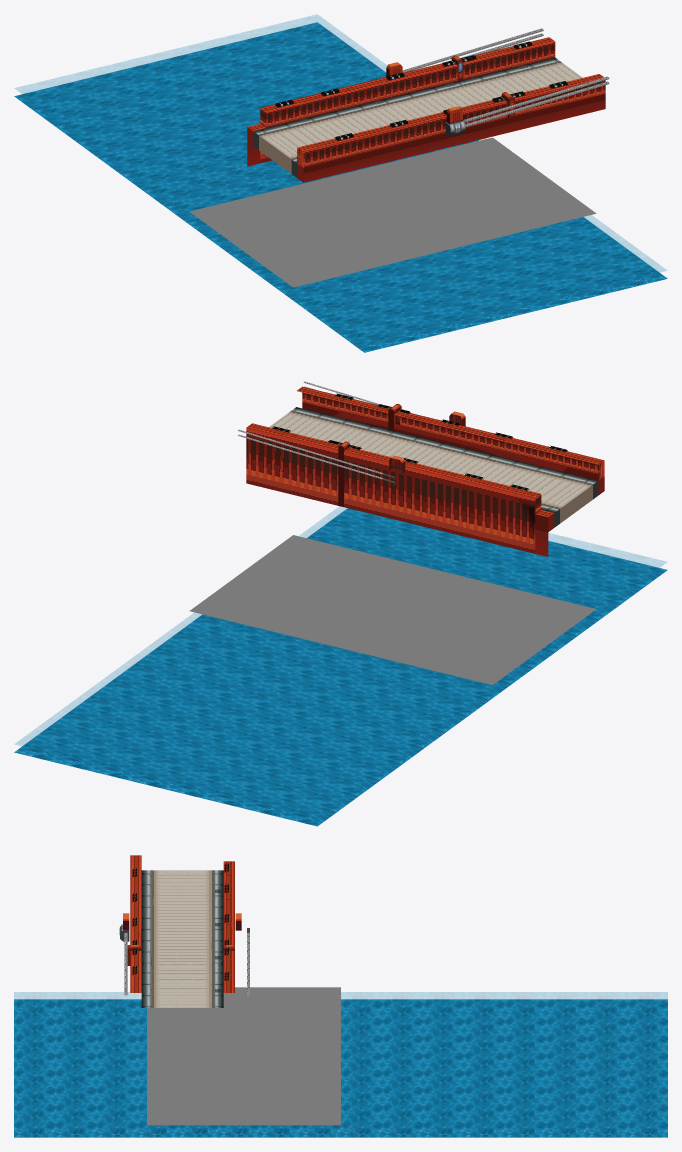
3 renders of one model, top to bottom at view 1: azimuth 30°, elevation 25°; view 2: azimuth 150°, elevation 25°; view 3: azimuth 270°, elevation 25°, orthographic. The views are drawn at different scales.
Visible parts, largest first — view 1: polygon5, polygon6, polygon4, polygon7, polygon8, polygon3, polygon0, polygon2; view 2: polygon5, polygon6, polygon4, polygon7, polygon8, polygon3; view 3: polygon5, polygon6, polygon4, polygon8, polygon7, polygon3, polygon0.
Part boxes in pixels (x1,y1,x2,y2): polygon5: [14, 22, 667, 352]; polygon6: [15, 14, 666, 344]; polygon4: [189, 137, 596, 287]; polygon7: [247, 37, 605, 182]; polygon8: [253, 57, 582, 177]; polygon3: [385, 28, 609, 127]; polygon0: [275, 41, 567, 140]; polygon2: [386, 62, 465, 136]; polygon5: [14, 508, 667, 826]; polygon6: [15, 506, 666, 817]; polygon4: [189, 535, 596, 684]; polygon7: [246, 386, 604, 556]; polygon8: [269, 407, 598, 527]; polygon3: [237, 381, 395, 486]; polygon5: [14, 999, 667, 1137]; polygon6: [14, 992, 667, 1129]; polygon4: [147, 987, 340, 1125]; polygon8: [141, 870, 223, 1007]; polygon7: [127, 855, 234, 992]; polygon3: [124, 928, 249, 995]; polygon0: [132, 863, 228, 980].
Bounding box in the file's own units: 4.01 × 2.06 × 8.
